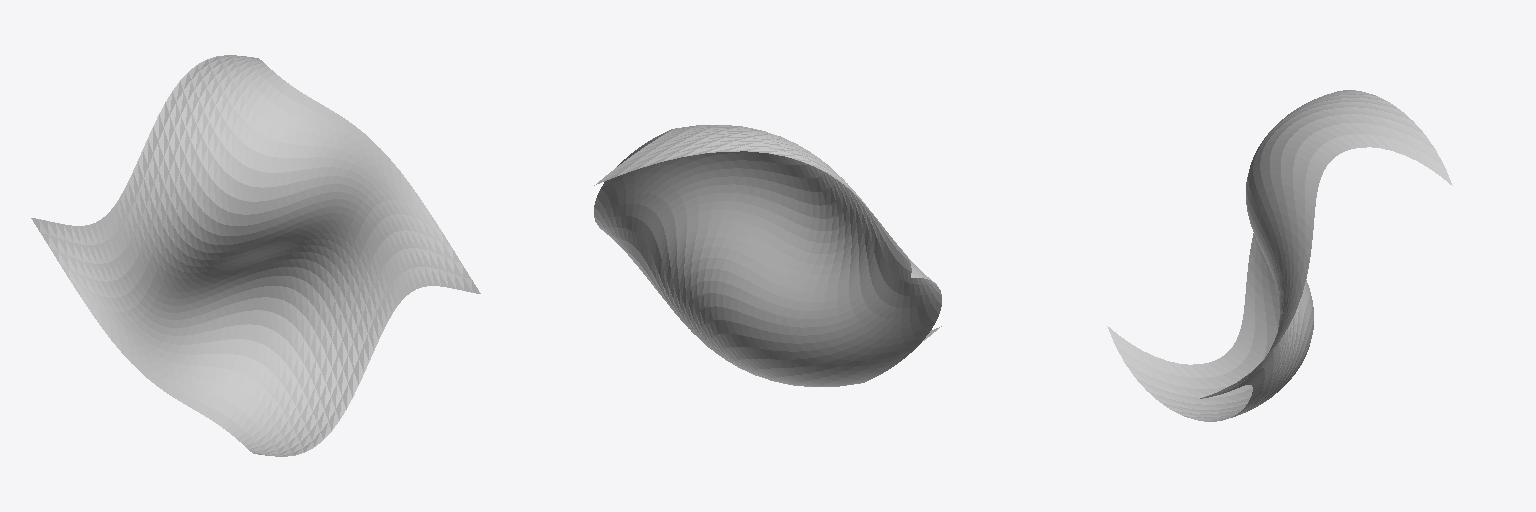
File: Wortex.obj
3 views of the same model, side by side, from view 1: azimuth 30°, elevation 25°; view 2: azimuth 150°, elevation 25°; view 3: azimuth 270°, elevation 25° (orthographic).
Visible parts, largest first — view 1: Plane; view 2: Plane; view 3: Plane.
Boxes of the visible parts, <box> form: Plane: <box>31,55,480,456</box>; Plane: <box>594,125,941,386</box>; Plane: <box>1107,90,1452,421</box>.
Size of the model in its own units: 2.56 by 1.97 by 2.08.